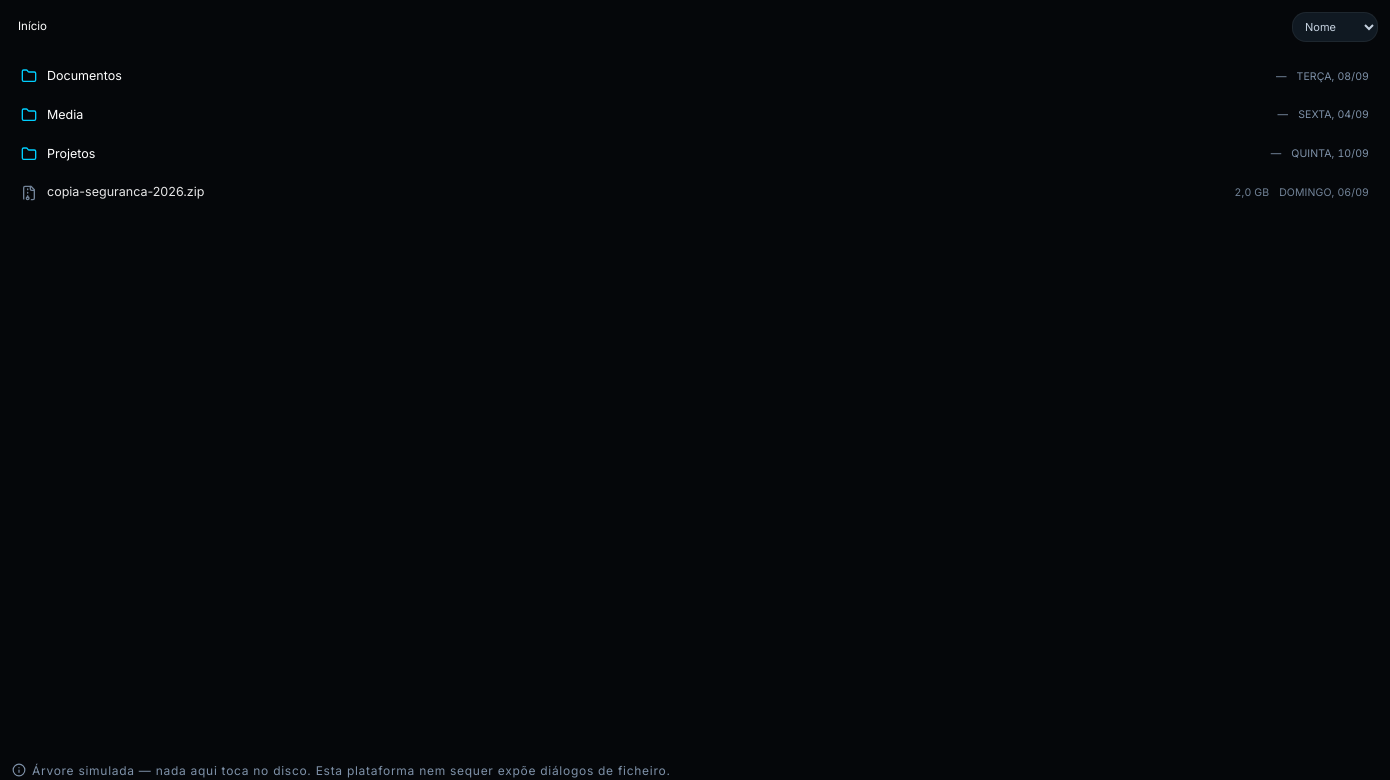
Test: explorador de ficheiros › as migalhas levam de volta
Click the button "Documentos — TERÇA, 08/09" at [84, 76], box [12, 58, 1378, 95]
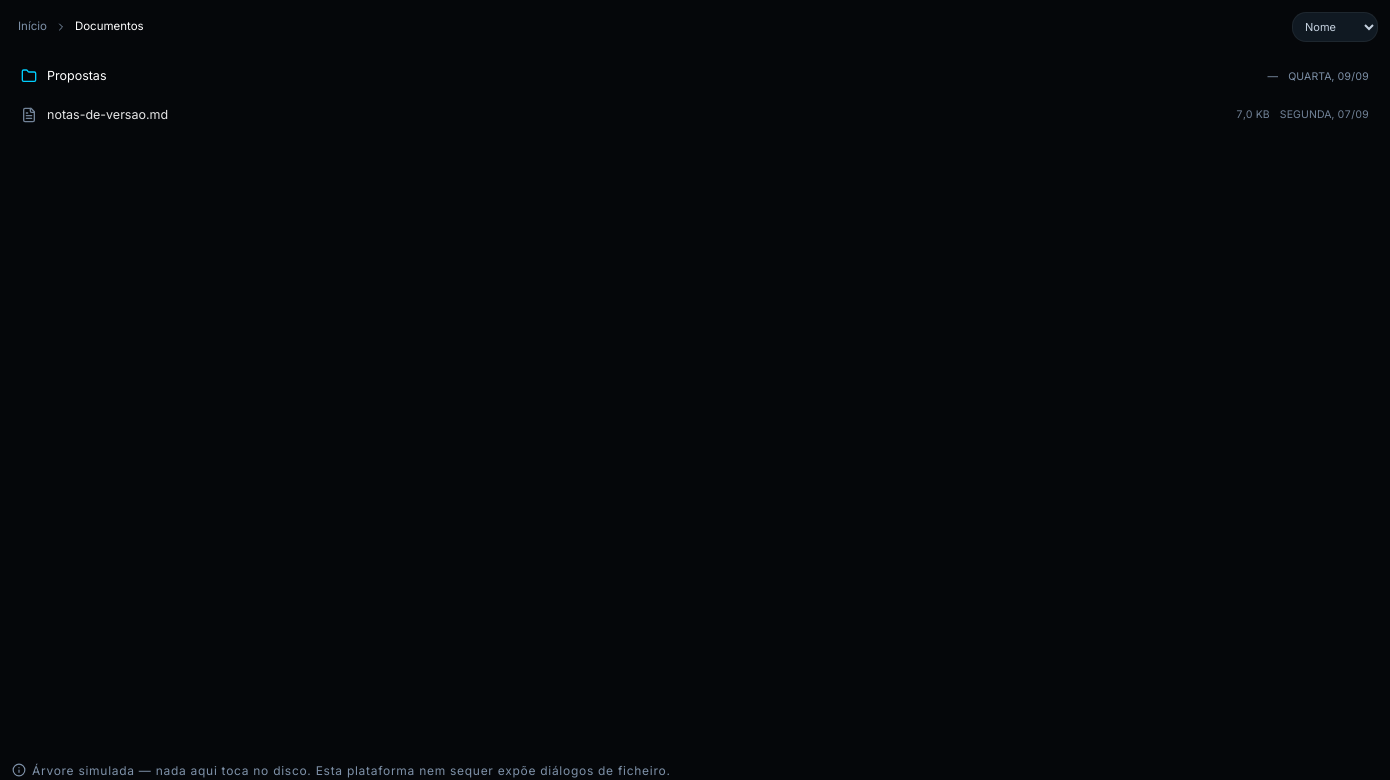
Click the button "Propostas — QUARTA, 09/09" at [77, 76], box [12, 58, 1378, 95]
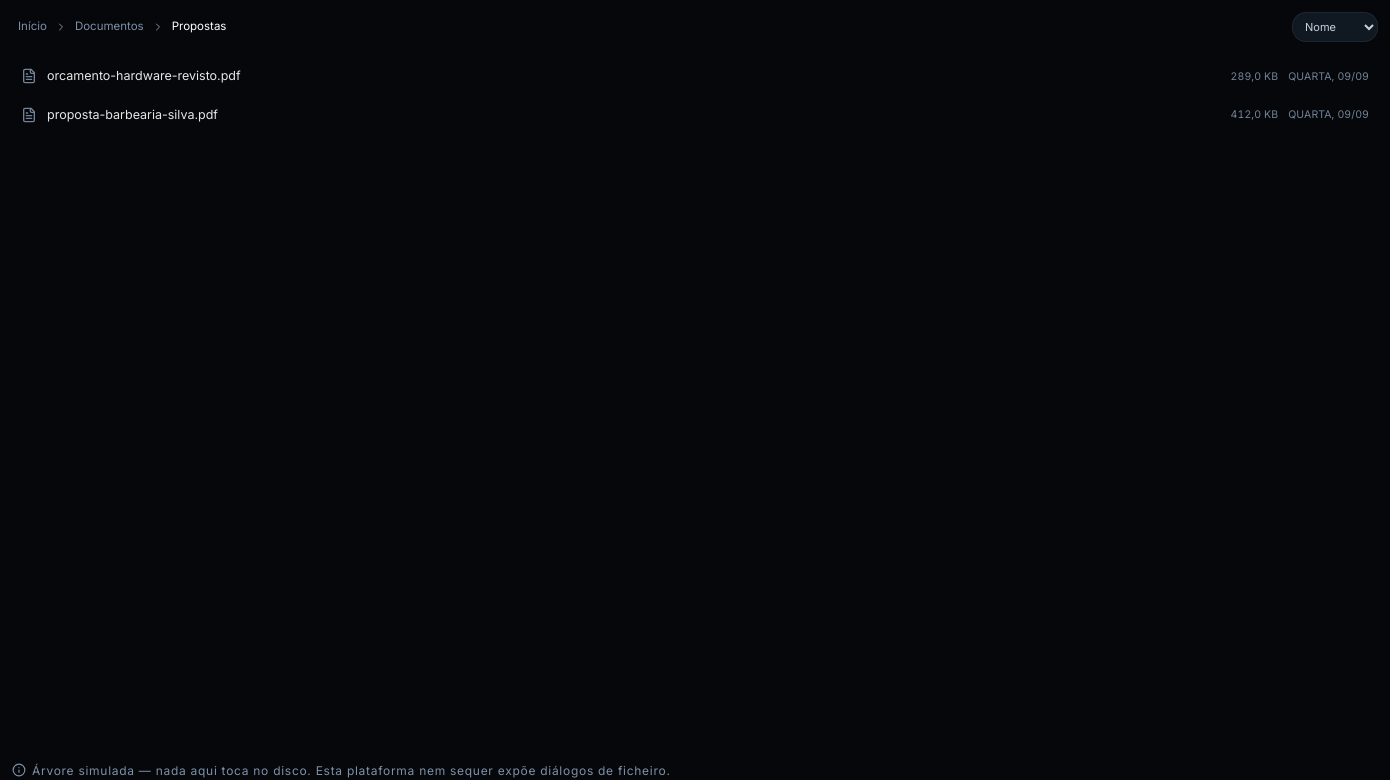
Now the text "proposta-barbearia-silva.pdf" is shown, box [47, 107, 218, 122]
Click the button "Início" at [32, 27], box [12, 14, 53, 40]
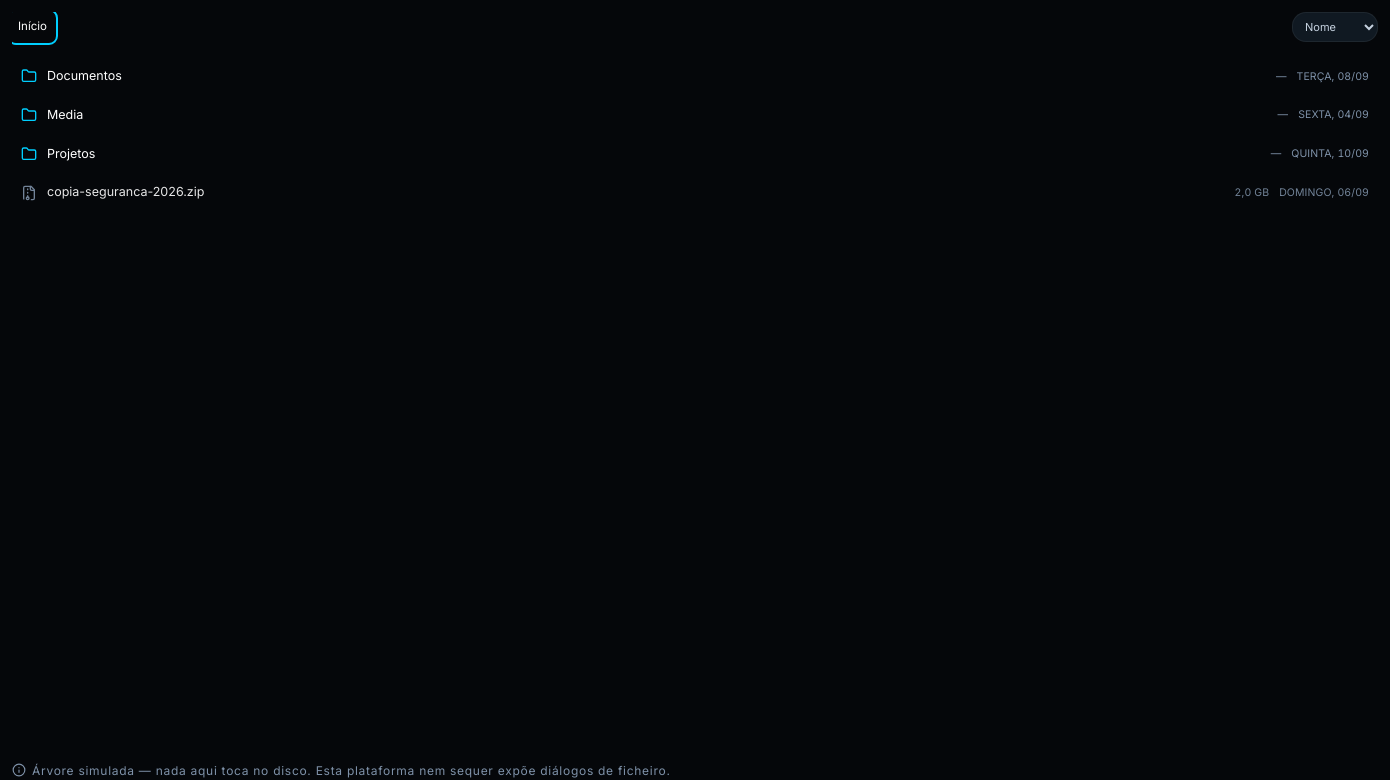
Now the button "Media — SEXTA, 04/09" is shown, box [12, 97, 1378, 134]
